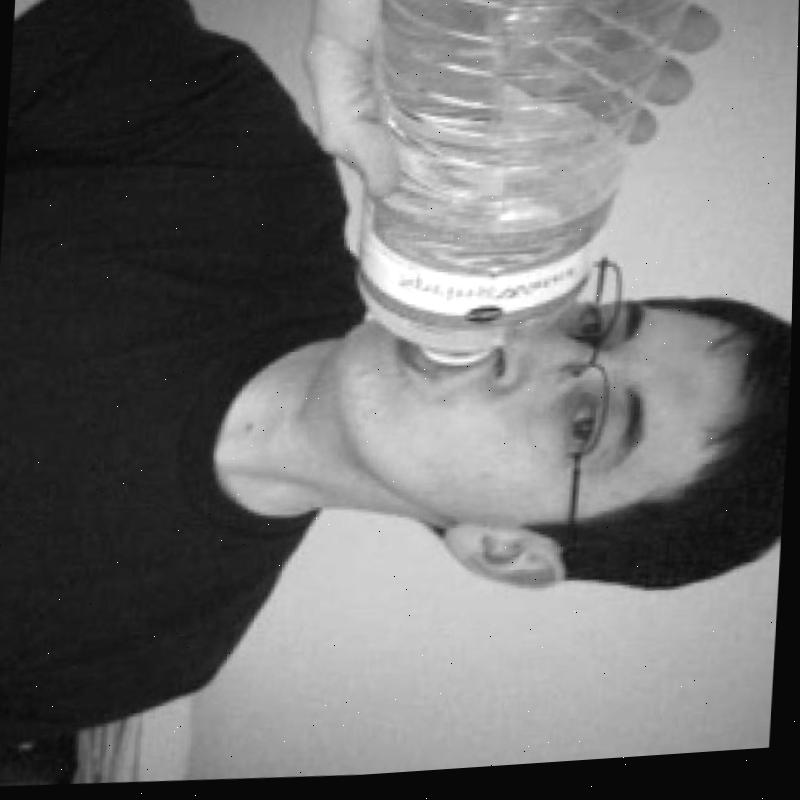botella: (331, 0, 706, 390)
